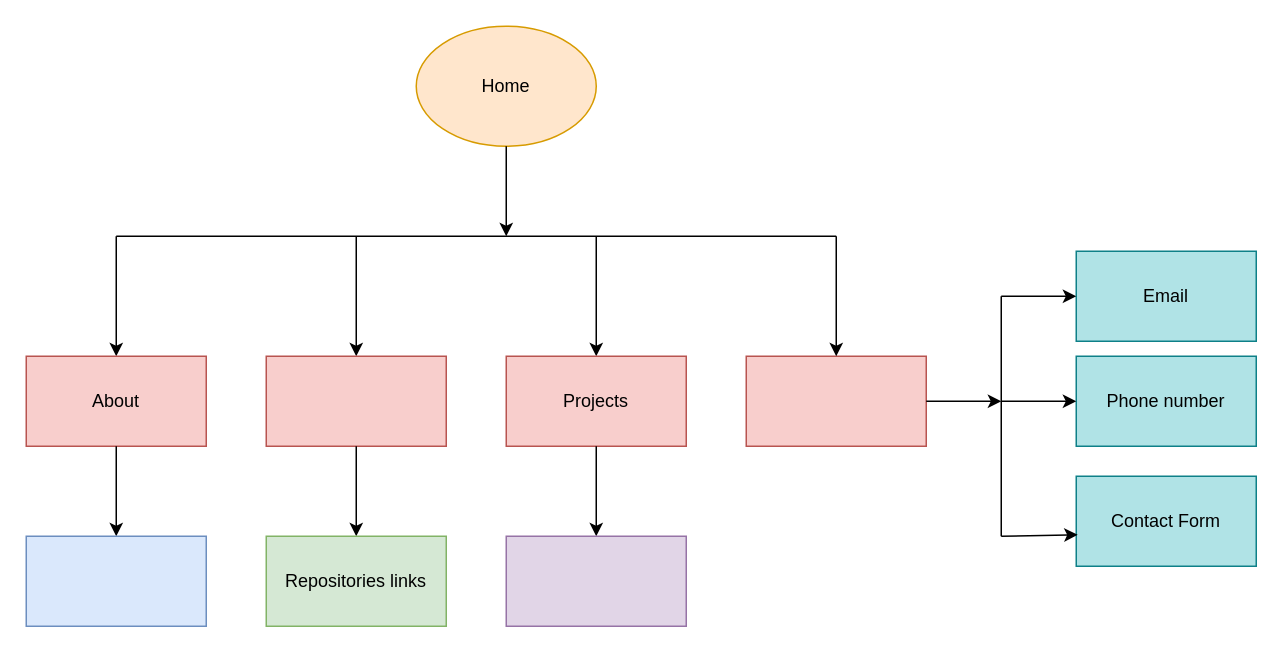
Image size: 1283x653. Some labels were removed from this diagram. Each missing label, with the centre of its shape:
"Bio" goes at pixel 115 580.
"Contact" goes at pixel 835 400.
"Project links" goes at pixel 595 580.
"Skills" goes at pixel 355 400.
